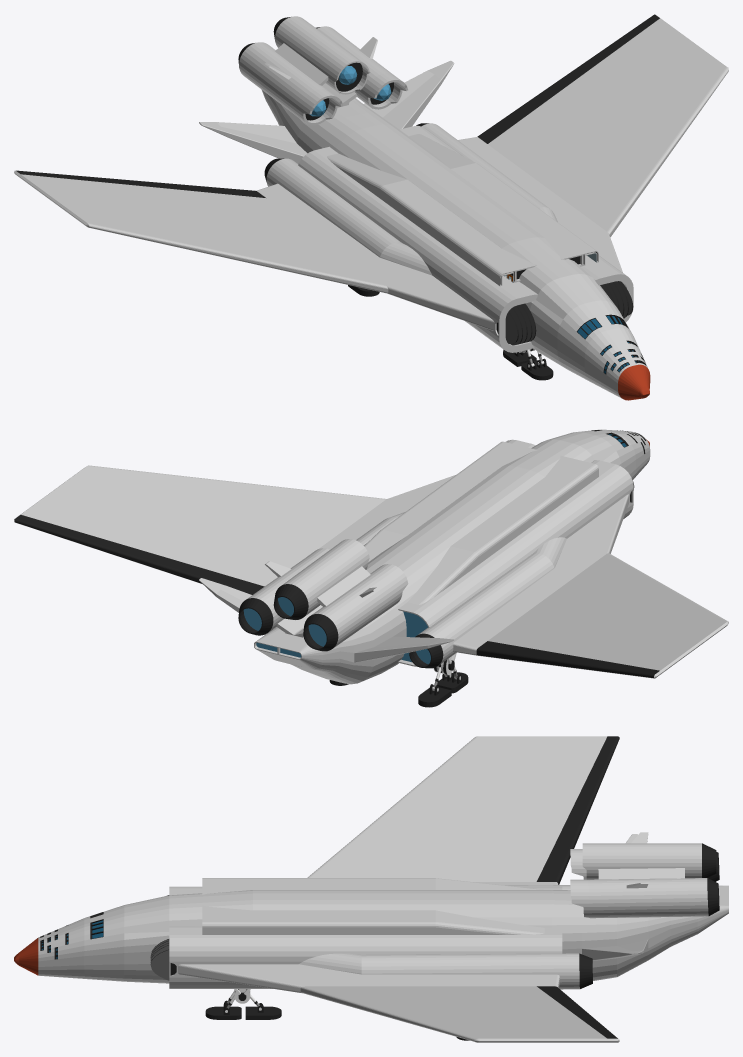
File: Spaceship.fbx
The picture shows the model from 3 angles, top to bottom: view 1: azimuth 30°, elevation 25°; view 2: azimuth 150°, elevation 25°; view 3: azimuth 270°, elevation 25°; orthographic projection. The views are drawn at different scales.
Visible parts, largest first — view 1: Cube; view 2: Cube; view 3: Cube.
Part boxes in pixels (box(x1,y1,x2,y2)): Cube: box(14, 14, 728, 400); Cube: box(14, 429, 728, 707); Cube: box(14, 736, 728, 1042).
Bounding box in the file's own units: 2508 × 655 × 2492.
